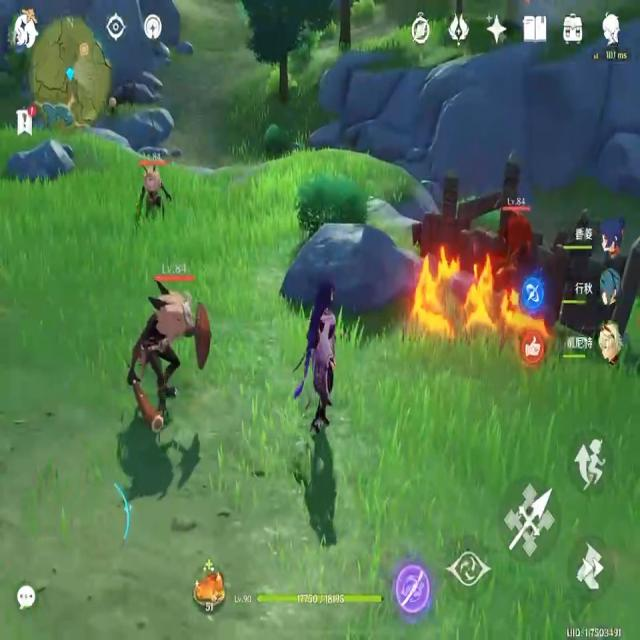genshin-hilichurls: (124, 267, 212, 435), (498, 198, 533, 302), (138, 151, 176, 235)
